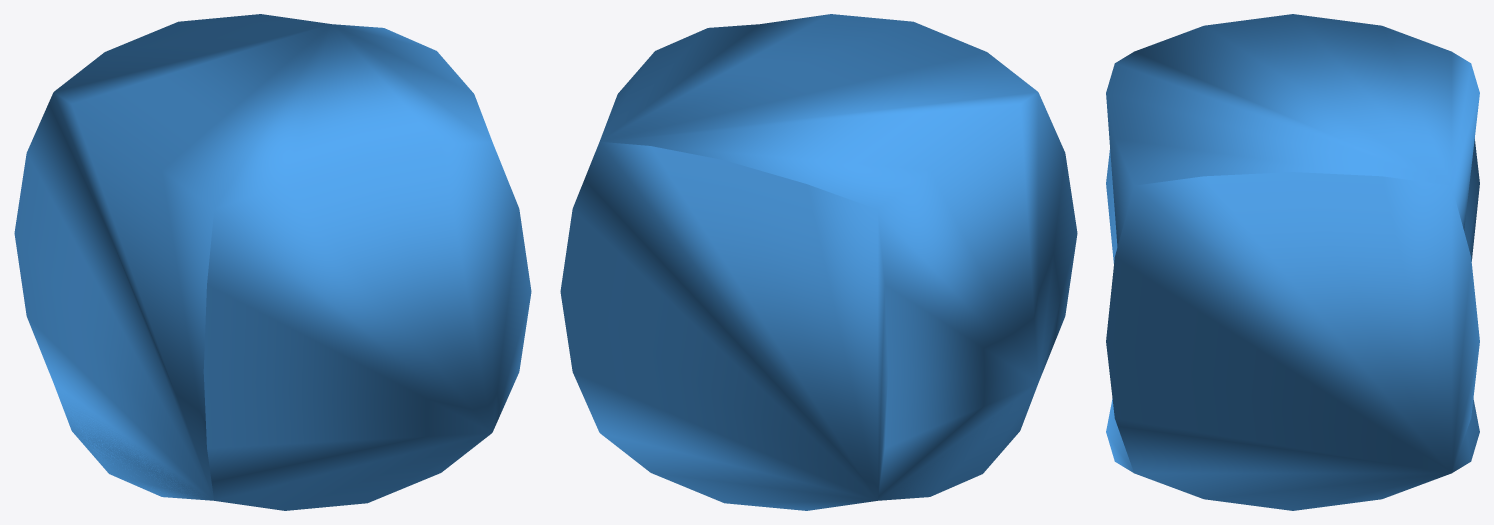
File: Gem_Blue.fbx
3 renders of one model, left to right at view 1: azimuth 30°, elevation 25°; view 2: azimuth 150°, elevation 25°; view 3: azimuth 270°, elevation 25°, orthographic.
Parts seen in each view (by area): view 1: Gem_Blue; view 2: Gem_Blue; view 3: Gem_Blue.
Boxes of the visible parts, bbox=[...] form: Gem_Blue: bbox=[14, 14, 531, 510]; Gem_Blue: bbox=[560, 14, 1077, 510]; Gem_Blue: bbox=[1106, 14, 1479, 510].
Size of the model in its own units: 1 by 1 by 1.
